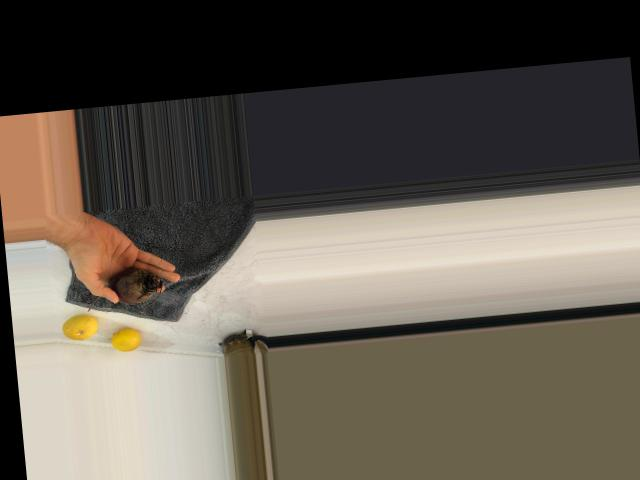beet: (84, 265, 164, 311)
